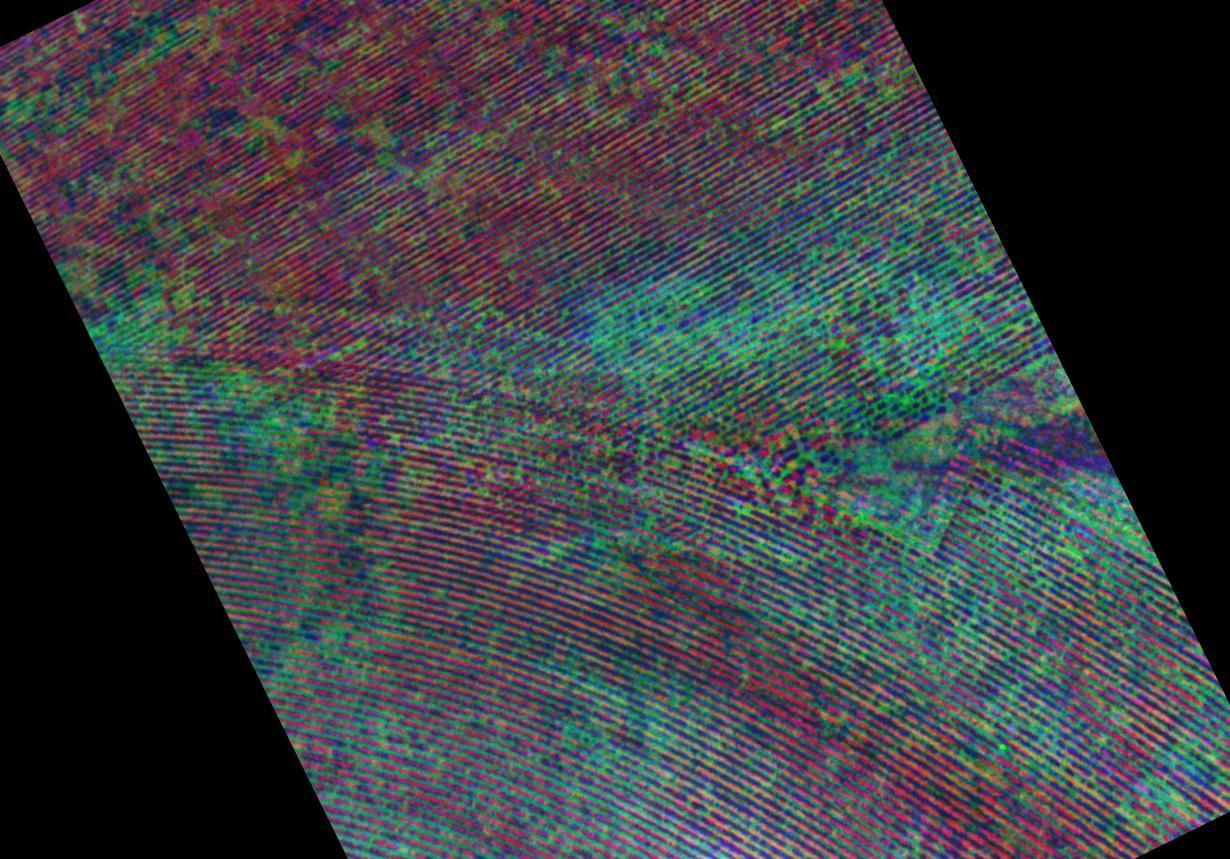dc: (606, 280, 734, 395), (231, 385, 344, 487), (876, 275, 950, 397), (268, 608, 373, 690), (88, 298, 185, 384)
